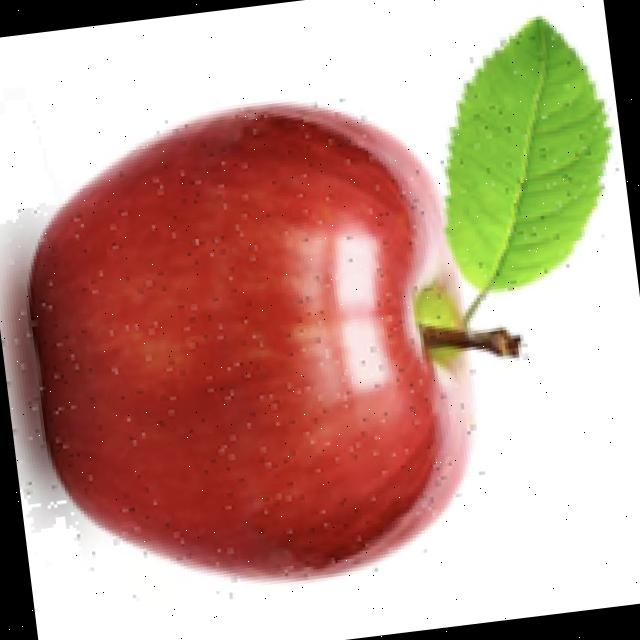apple: (0, 9, 616, 586)
